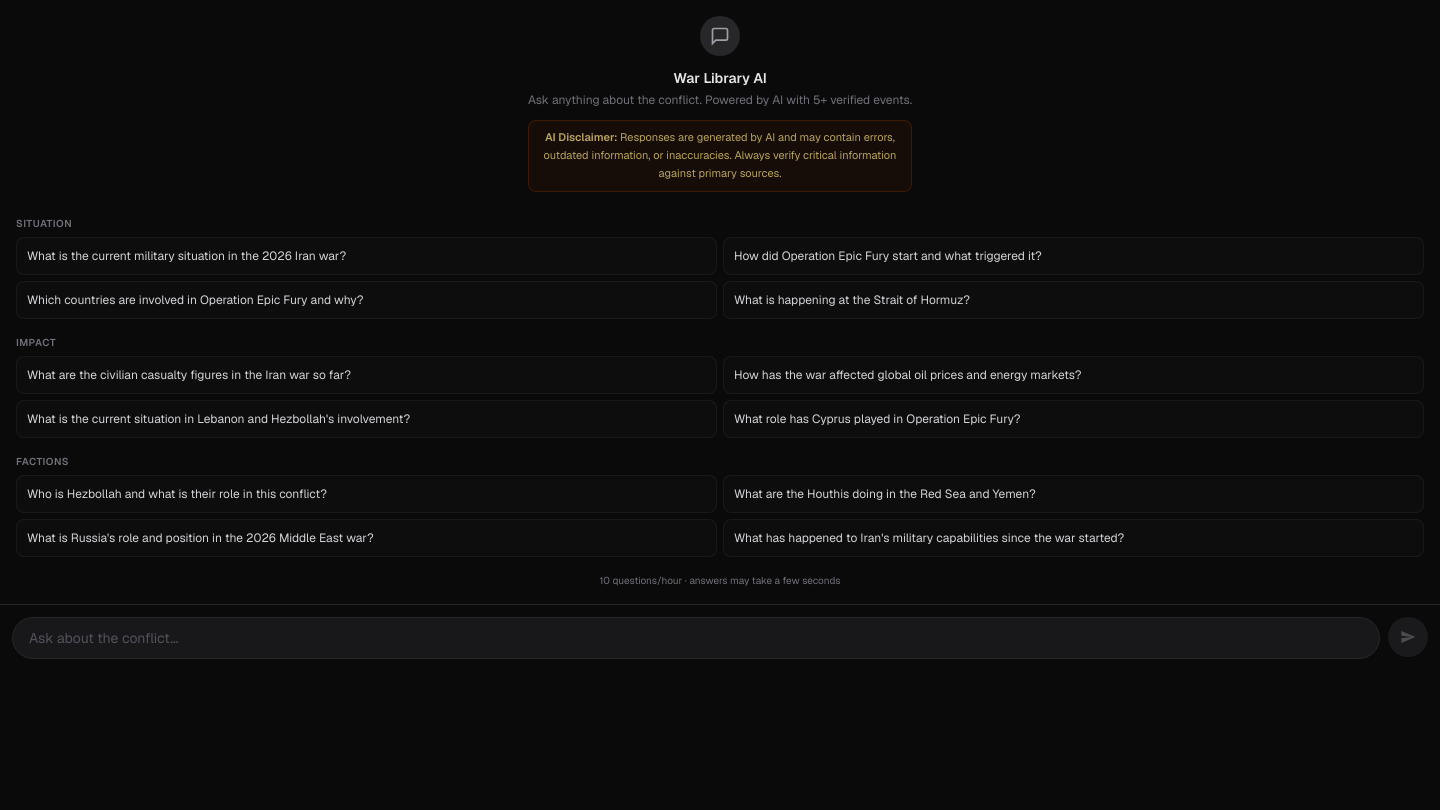
Scenario: AskPanel › shows assistant response after successful fetch
Step 1. Type "How did this start?" into the field with placeholder "Ask about the conflict..." → [696, 638], box x1=12 y1=617 x2=1380 y2=659
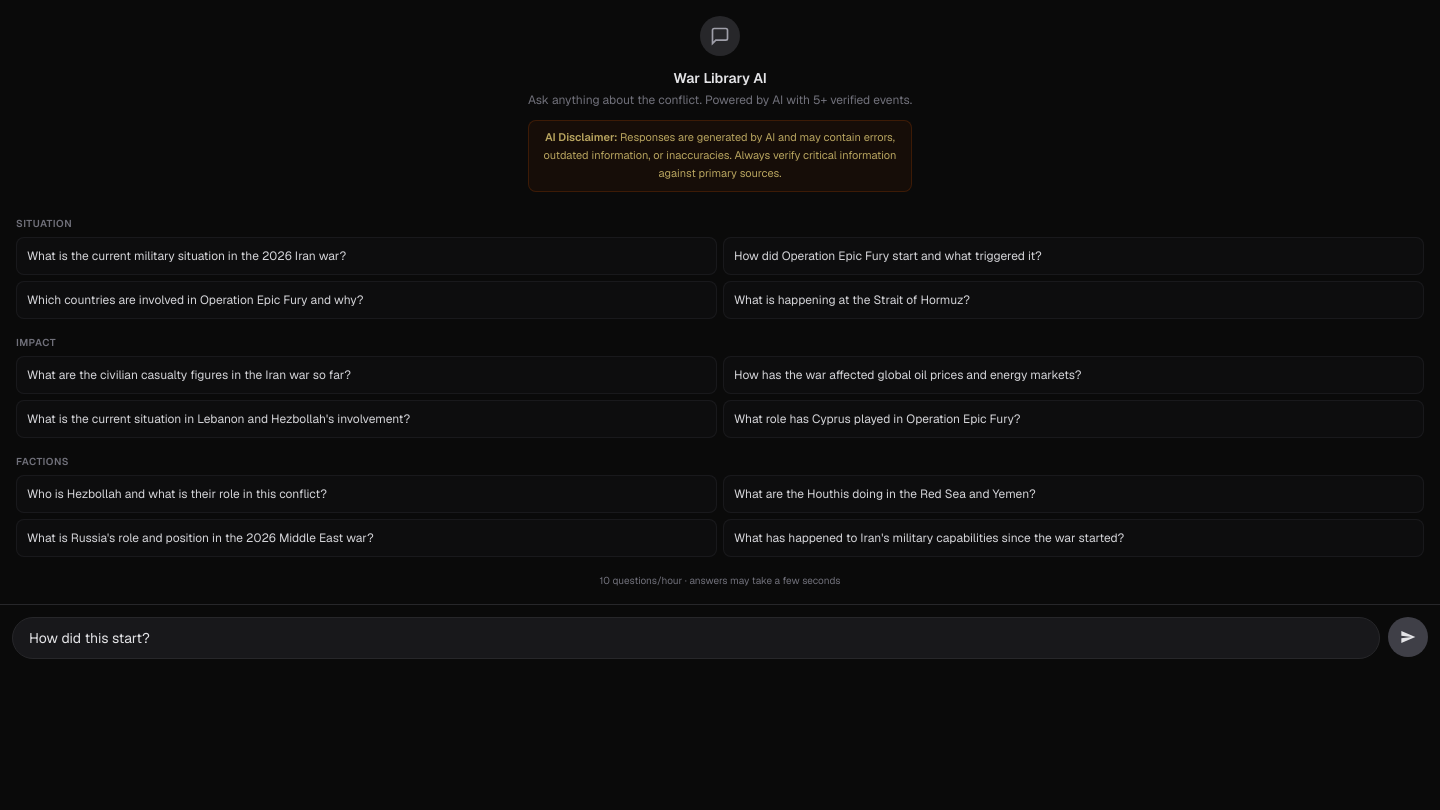
Step 2. Click the button named "Send" → [1408, 637], box x1=1388 y1=617 x2=1428 y2=657
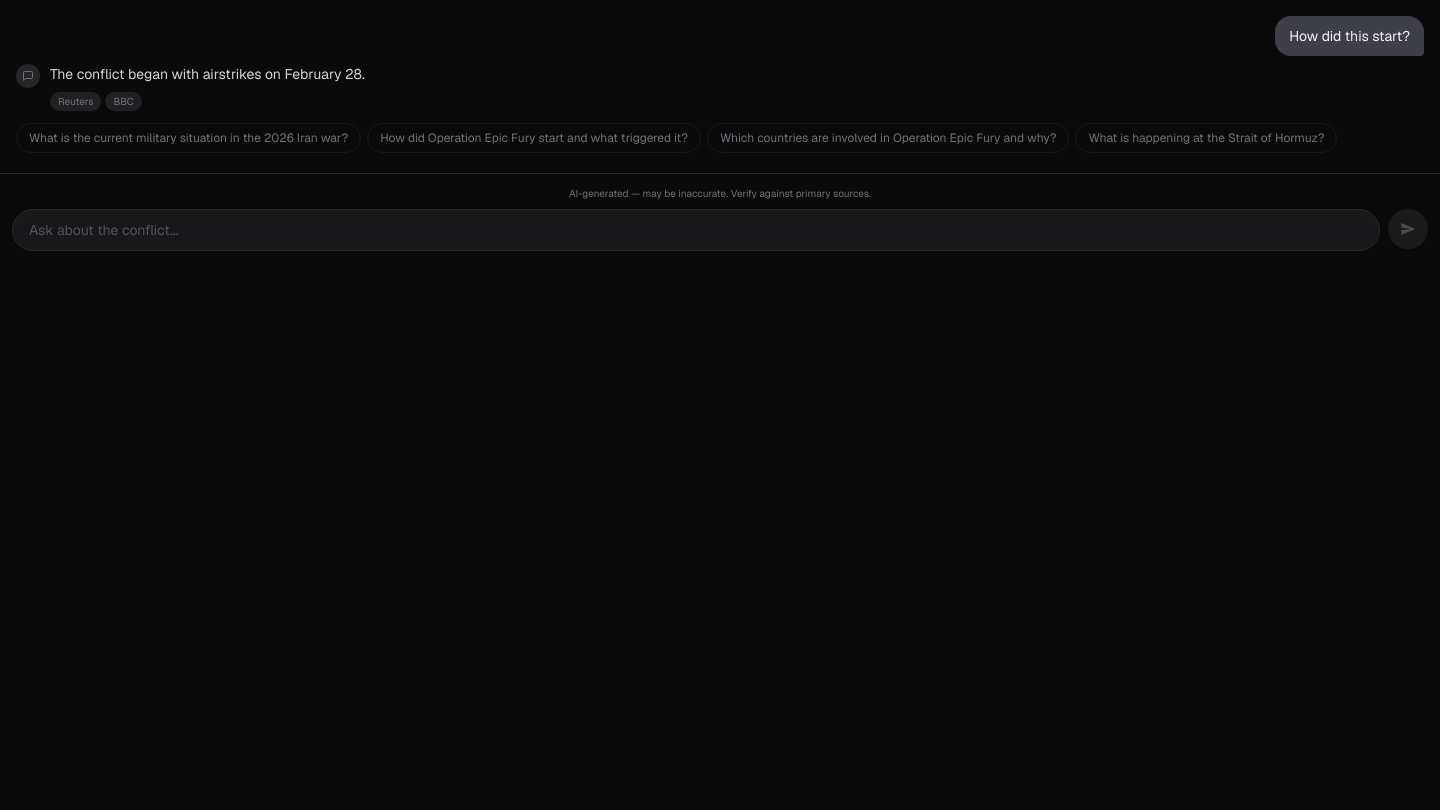
Expected: the text "The conflict began with airstrikes on February 28." is shown, x1=50 y1=65 x2=365 y2=83
Expected: the text "Reuters" is shown, x1=50 y1=92 x2=102 y2=111
Expected: the text "BBC" is shown, x1=106 y1=92 x2=142 y2=111
